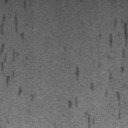red iron: (0, 0, 34, 102), (98, 18, 128, 80), (104, 89, 122, 120), (84, 112, 94, 128), (68, 96, 78, 108), (75, 64, 80, 80), (90, 82, 94, 90)
